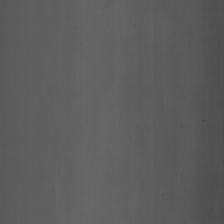inclusion: (199, 108, 207, 125)
